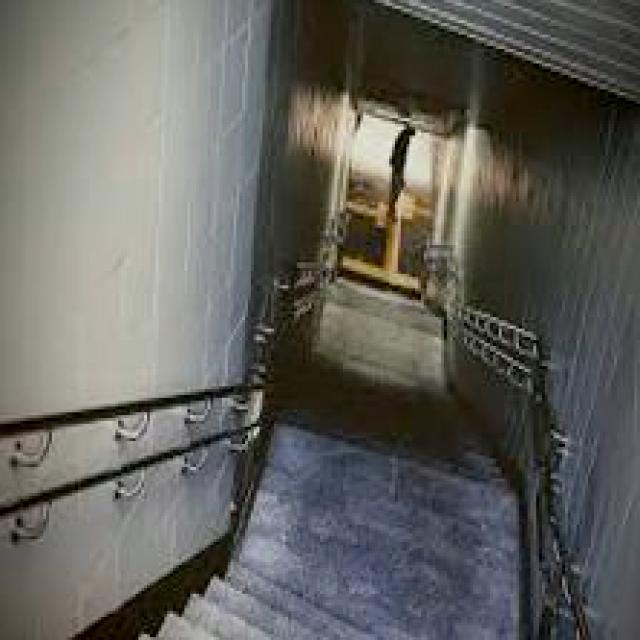downstair: (283, 350, 497, 514)
